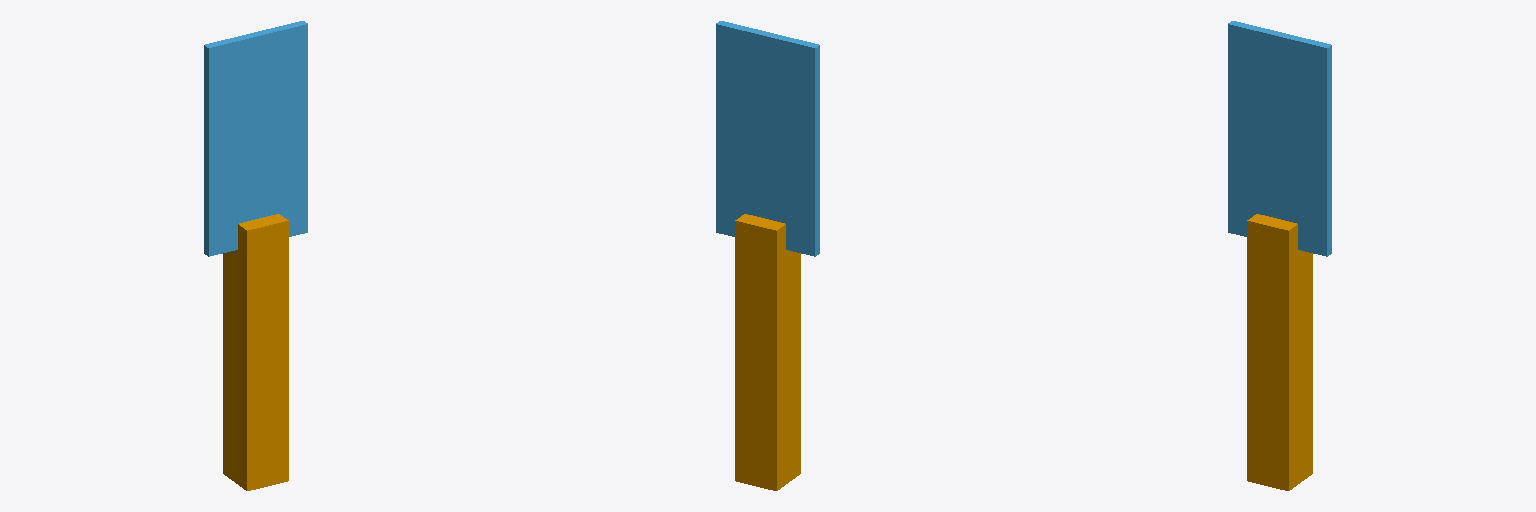
The robot description file, URDF, robot "pizza_spatula":
<?xml version = "1.0"?>

<robot name = "pizza_spatula">

<!-- Color Def - for Material blue-->
<material name = "blue">
    <color rgba = "0 0.8 1"/>
</material>

<!-- Base Link Definition-->

<link name="pizza_spatula_handle">
    <visual>
        <origin xyz="0.0 0.0 0.1" rpy="0.0 0.0 0.0"/>
        <geometry>
            <box size="0.025 0.025 0.15"/>
            <!--box size="0.15 0.024 0.022"/-->
        </geometry>
    </visual>
</link>

<link name="pizza_spatula_blade">
    <visual>
        <origin xyz="0.0 0.0 0.0" rpy="0.0 0.0 0.0"/>
        <geometry>
            <box size="0.06 0.005 0.12"/>
            <!--box size="0.12 0.06 0.1"/-->
        </geometry>
        <material name="blue"/>
    </visual>
</link>

<joint name="cutting_joint" type="fixed">
    <parent link="pizza_spatula_handle"/>
    <child link="pizza_spatula_blade"/>
    <axis xyz="0.0 0.0 1.0"/>
    <origin xyz="0.0 0.0 0.22" rpy="0.0 0.0 0.0"/>
    
</joint>

</robot>

--- Facts derived from the render (not from the file) ---
3 views of the same robot in one strip: view 1: azimuth 30°, elevation 25°; view 2: azimuth 150°, elevation 25°; view 3: azimuth 330°, elevation 25° (orthographic).
Robot: pizza_spatula — 2 links, 1 joints (1 fixed); root link pizza_spatula_handle; default pose: all joints at 0.
Links seen in each view (by area): view 1: pizza_spatula_blade, pizza_spatula_handle; view 2: pizza_spatula_blade, pizza_spatula_handle; view 3: pizza_spatula_blade, pizza_spatula_handle.
Boxes of the visible links, x1,y1,x2,y2 form: pizza_spatula_blade: [204, 21, 307, 256]; pizza_spatula_handle: [223, 214, 288, 490]; pizza_spatula_blade: [716, 21, 819, 256]; pizza_spatula_handle: [735, 214, 800, 490]; pizza_spatula_blade: [1228, 21, 1331, 256]; pizza_spatula_handle: [1247, 214, 1312, 490].
Bounding box of the posed robot: 0.06 × 0.025 × 0.255 m (x, y, z).
Geometry: primitives only (box / cylinder / sphere), no mesh files.